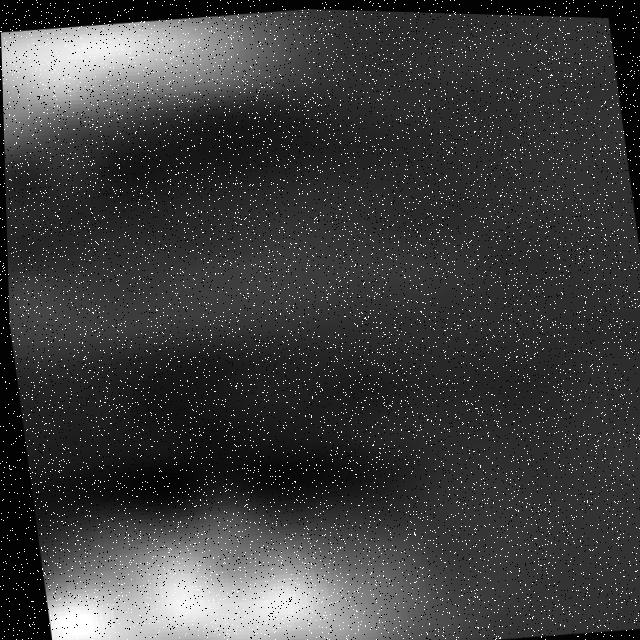person: (27, 443, 466, 640), (1, 1, 371, 221)
